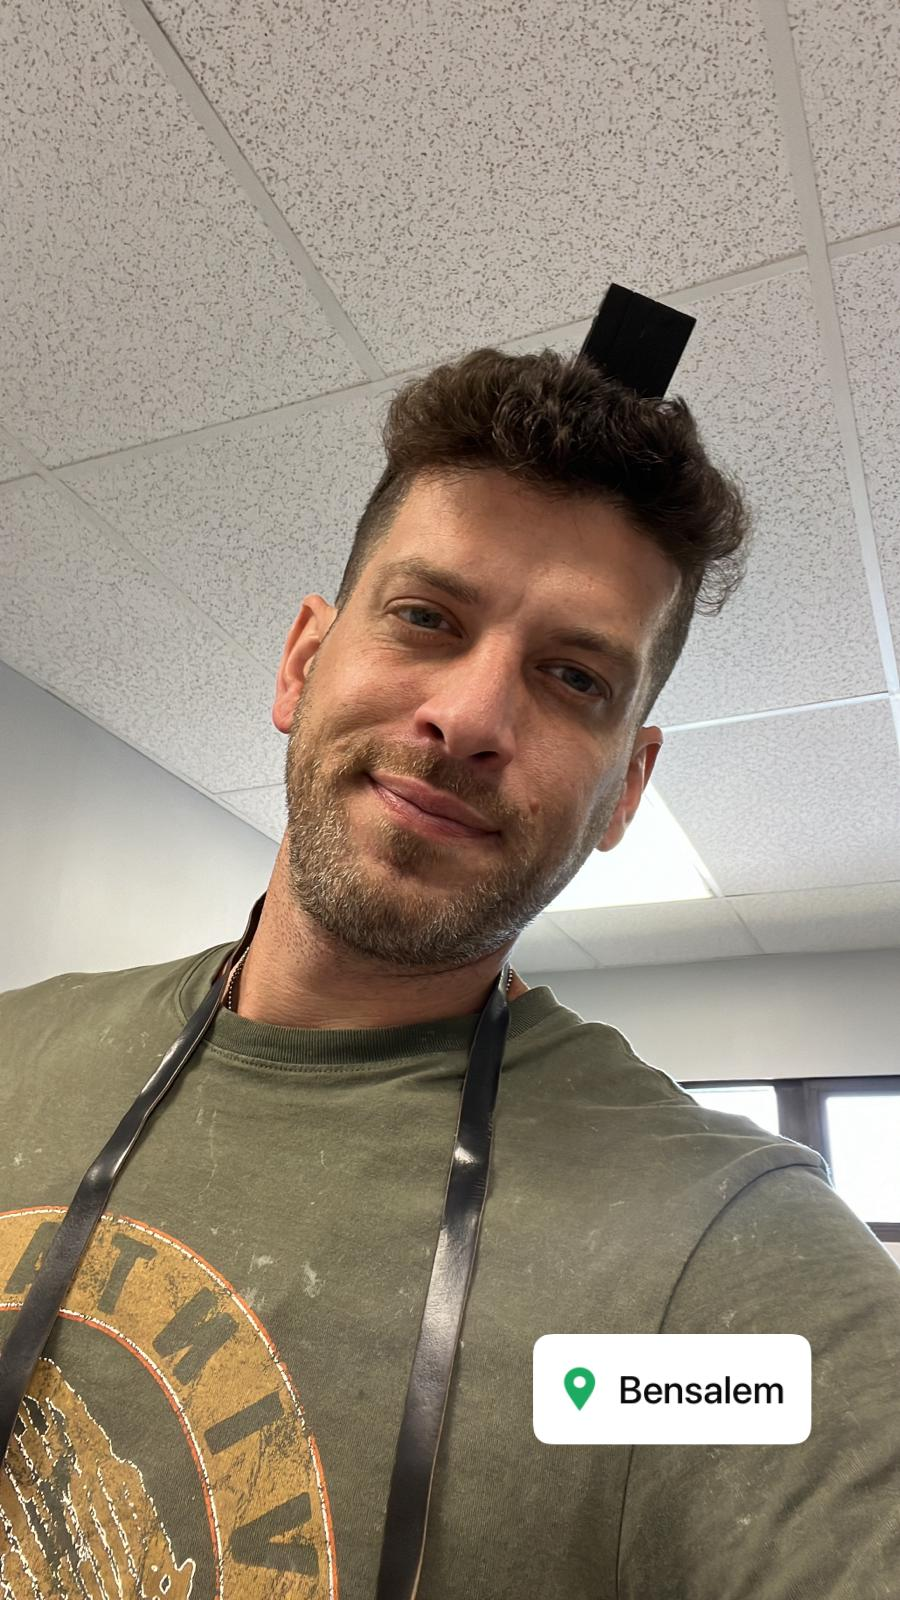tefillin: (562, 284, 697, 401)
